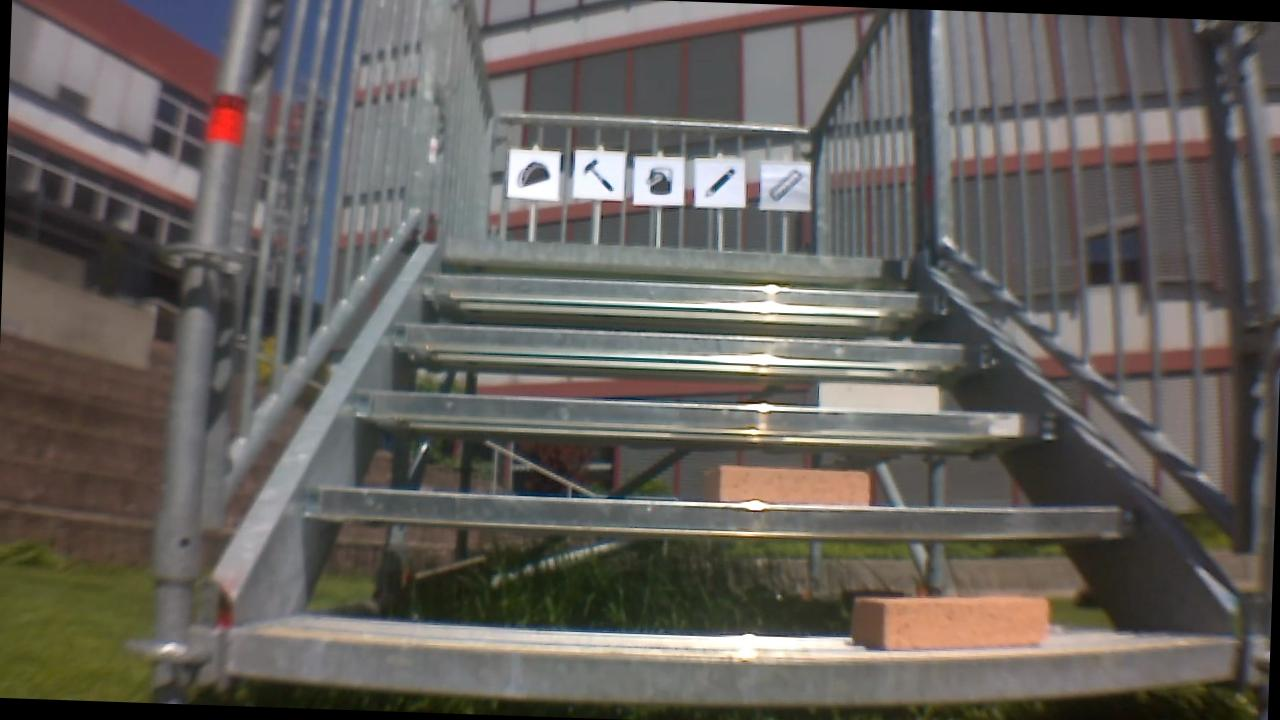brick: (846, 581, 1051, 658), (709, 461, 874, 515), (811, 378, 944, 415)
bucket: (643, 166, 676, 196)
edge: (231, 607, 1249, 719), (287, 476, 1131, 549), (348, 384, 1066, 447), (377, 319, 999, 373), (418, 271, 948, 313), (441, 240, 920, 280)
hammer: (577, 158, 615, 191)
pencil: (703, 164, 738, 201)
steps: (185, 227, 1255, 719)
taco: (517, 160, 551, 193)
